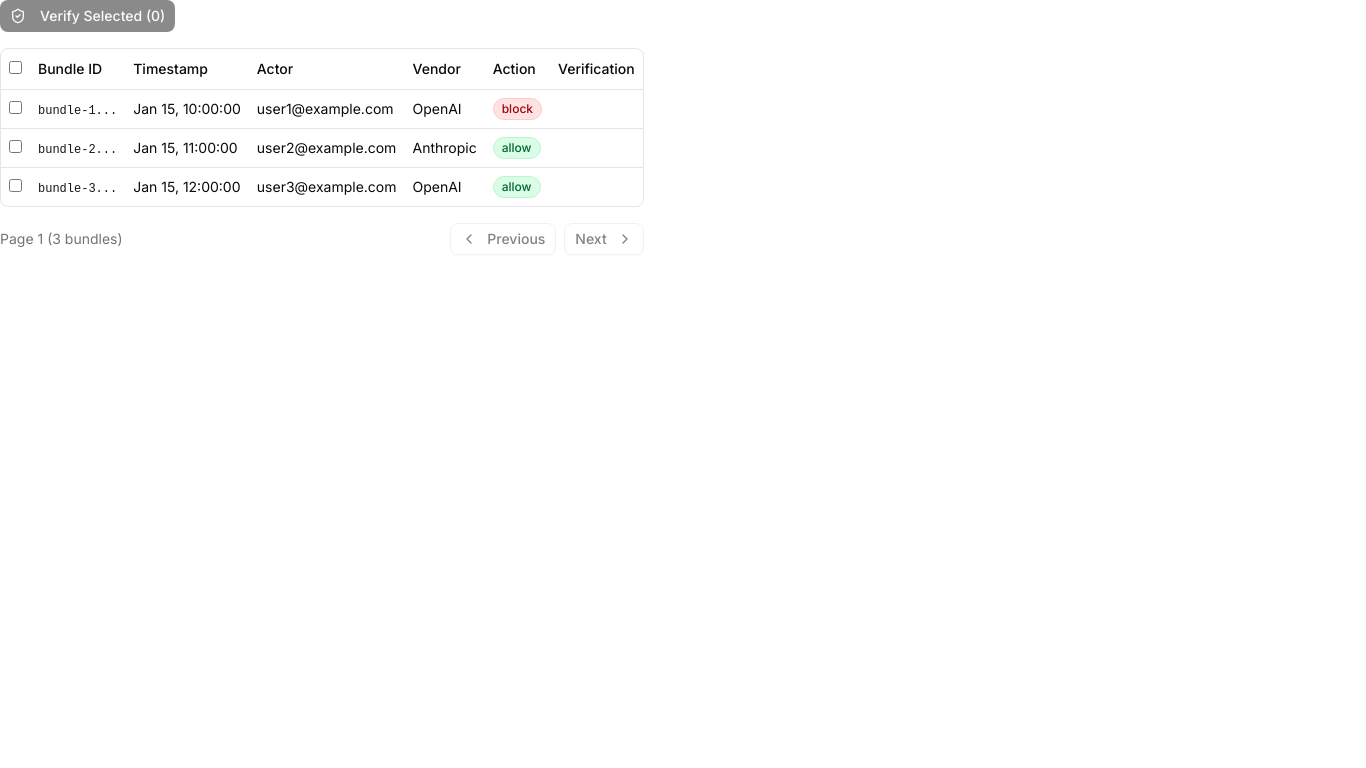
it: BatchVerifyTable › updates selection count when a row checkbox is toggled
This screenshot has width=1366, height=768.
// Click the first row checkbox (index 1 because index 0 is the header checkbox)
Click the checkbox named "Select bundle bundle-1".
click(16, 107)  # box [9,100,22,114]
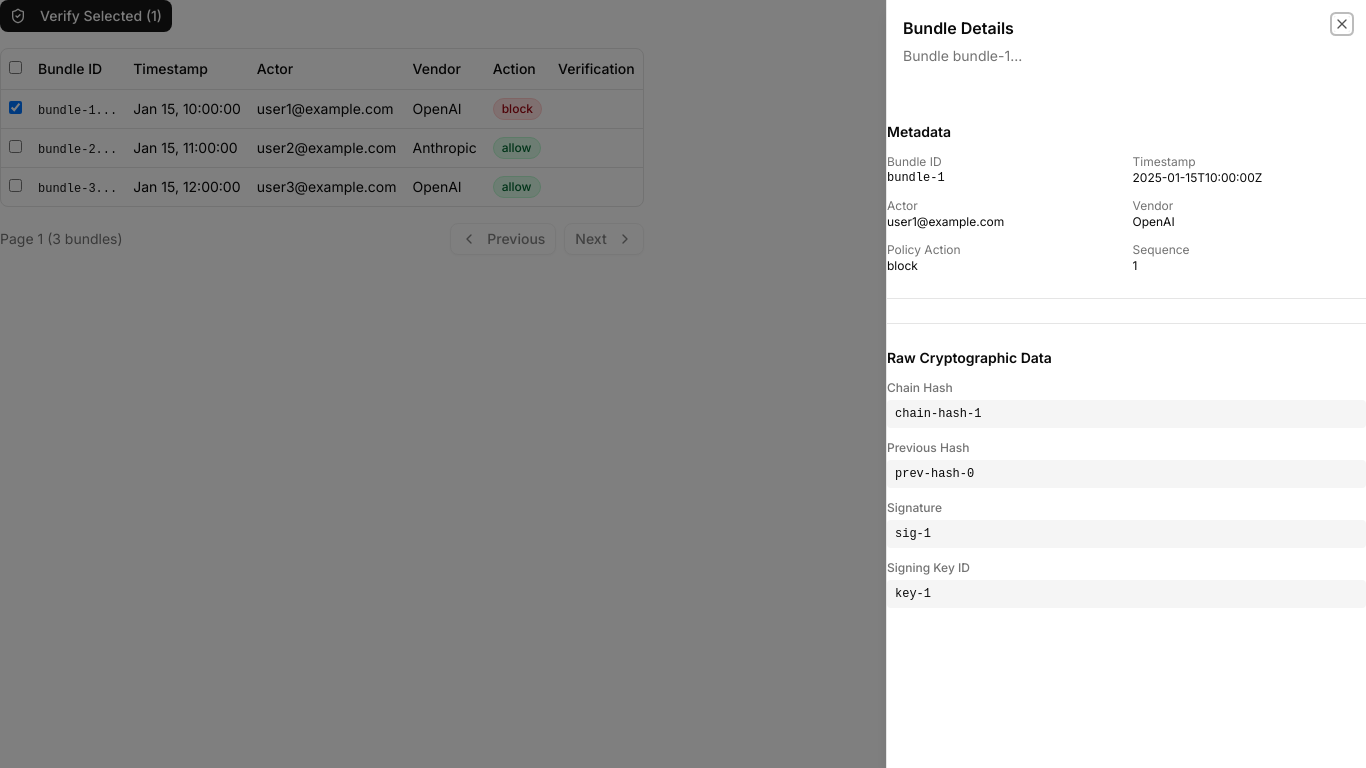
Check: the button "Verify Selected (1)" is shown, box [0,0,172,32]
